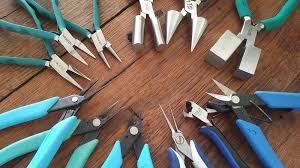pliers: (0, 79, 104, 167), (204, 76, 299, 167), (0, 99, 124, 167), (98, 111, 155, 167)
